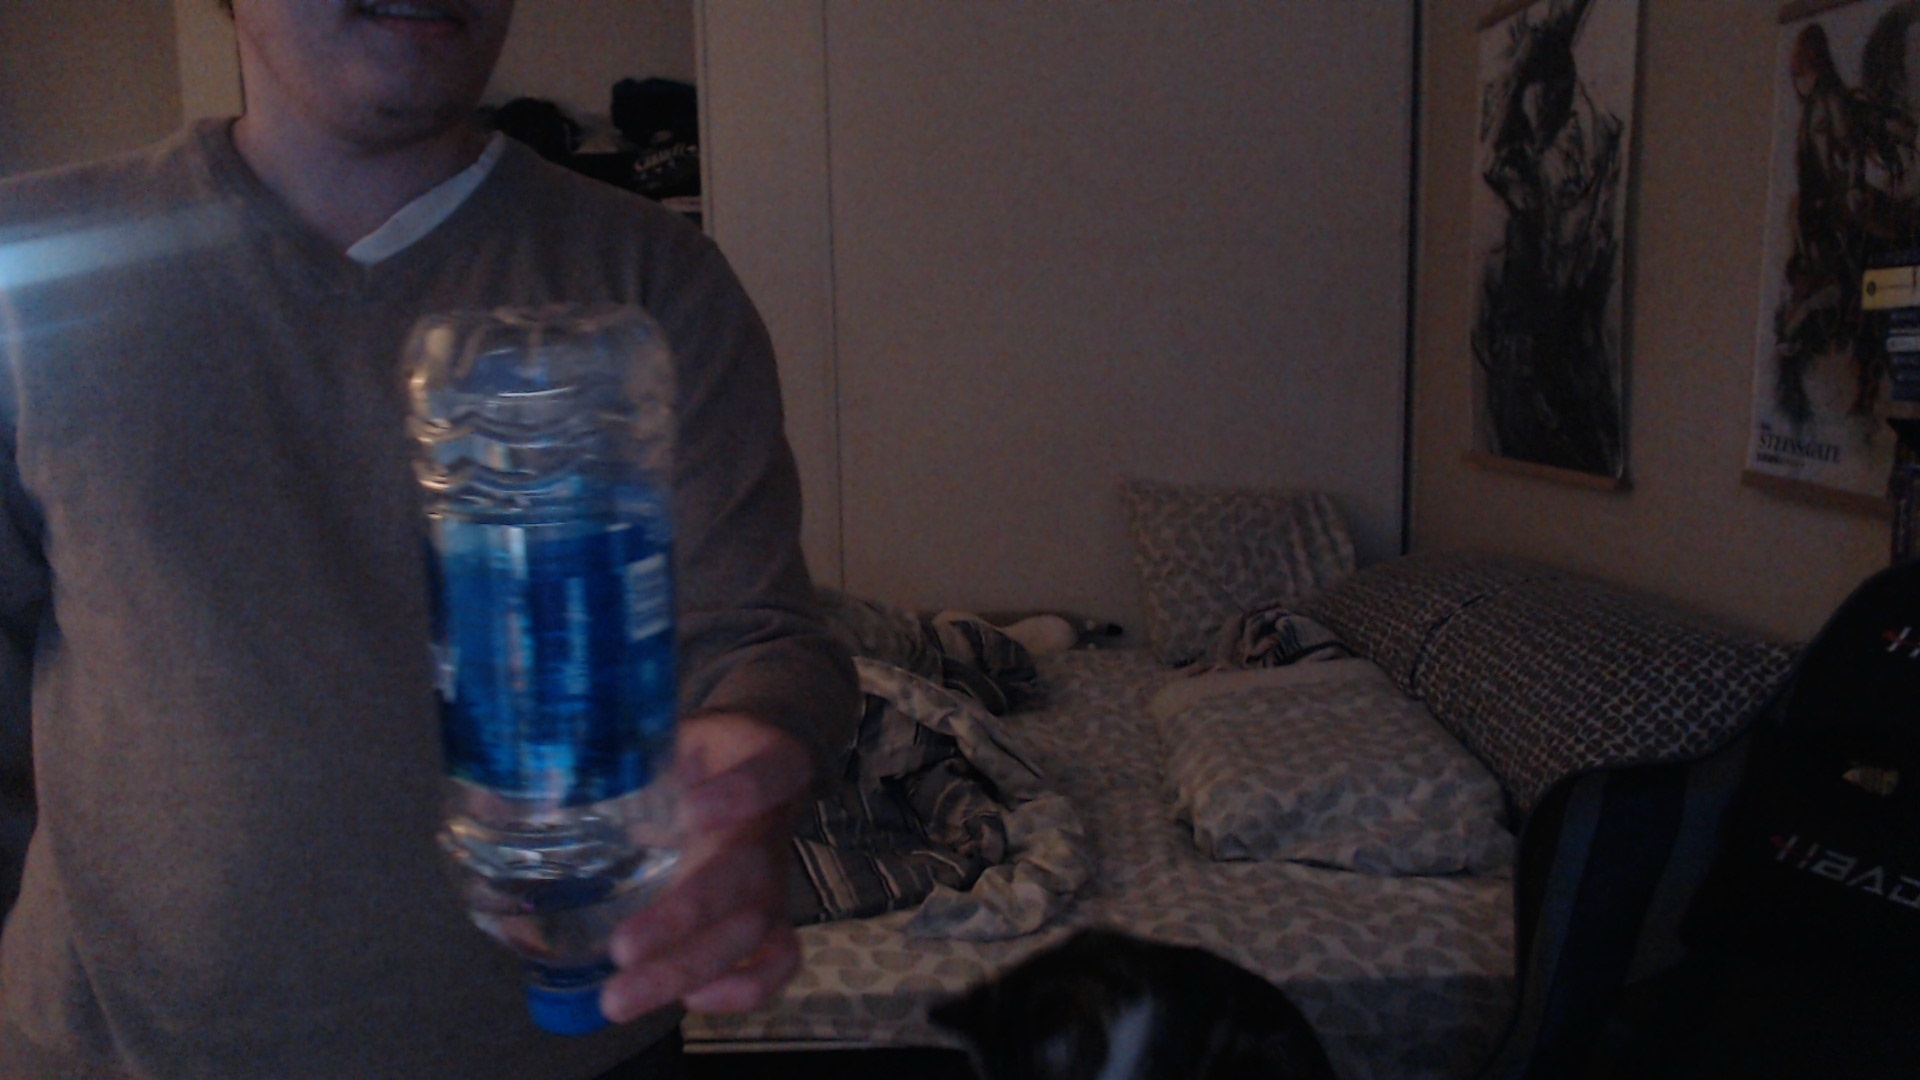bottle: (400, 294, 687, 1040)
